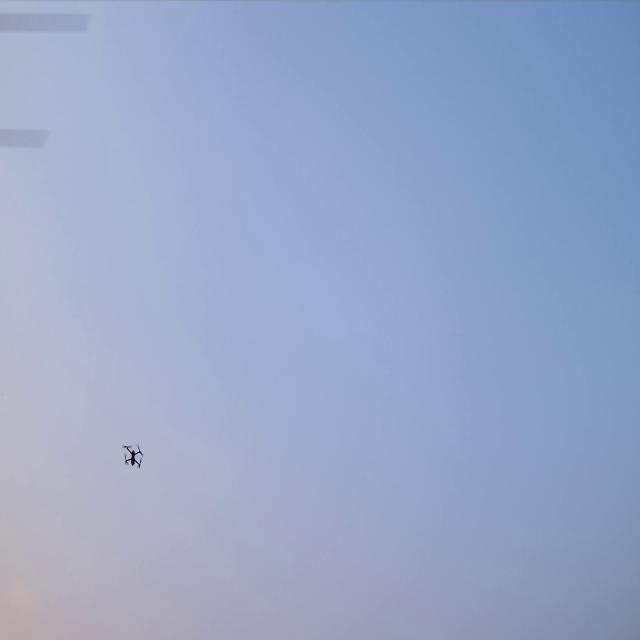UAV: (120, 442, 146, 472)
